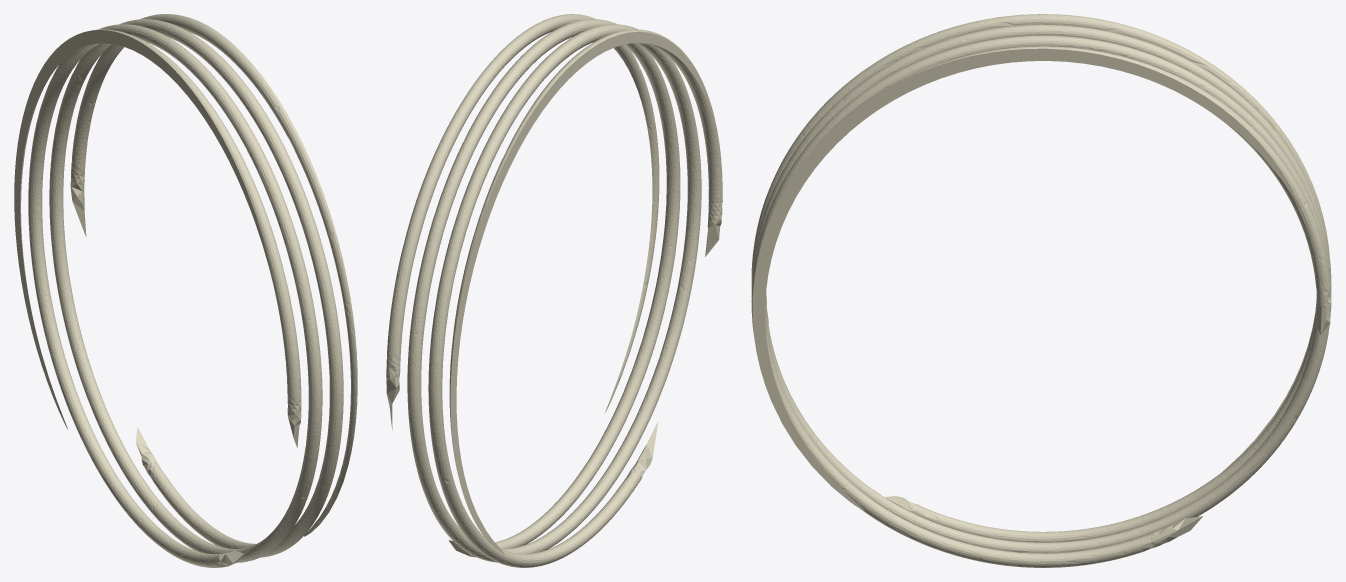
The model's file is water-pump-seal-spring.glb.
3 views of the same model, side by side, from view 1: azimuth 30°, elevation 25°; view 2: azimuth 150°, elevation 25°; view 3: azimuth 270°, elevation 25° (orthographic). The views are drawn at different scales.
Parts seen in each view (by area): view 1: world; view 2: world; view 3: world.
Boxes of the visible parts, bbox=[...] form: world: bbox=[14, 14, 357, 567]; world: bbox=[386, 14, 722, 567]; world: bbox=[751, 14, 1331, 567].
Size of the model in its own units: 0.0045 by 0.0318 by 0.0318.
